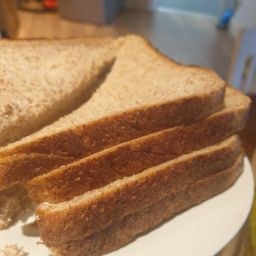Breads: (2, 31, 228, 256), (103, 34, 254, 256), (14, 119, 233, 256)
